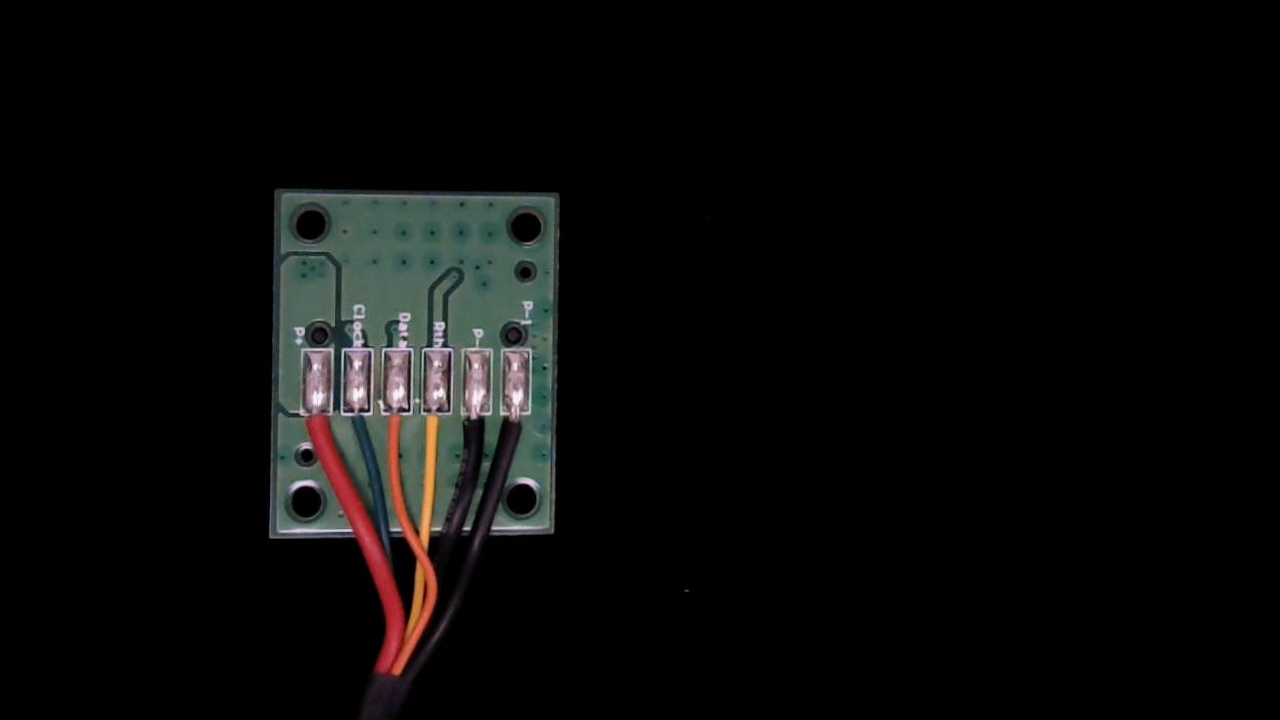Black: (458, 396, 488, 462)
Black1: (500, 397, 530, 459)
Green: (341, 397, 373, 459)
Orange: (378, 396, 412, 460)
Red: (302, 398, 331, 466)
Yellow: (419, 395, 450, 468)
